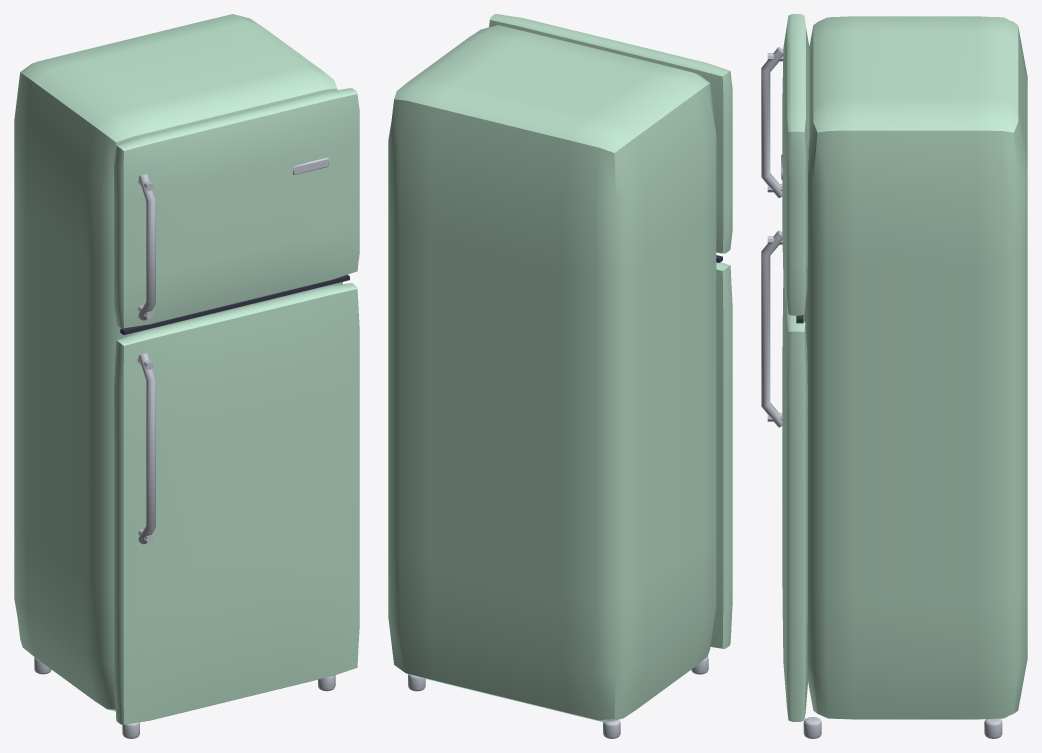
File: fridge.glb
The picture shows the model from 3 angles, left to right: view 1: azimuth 30°, elevation 25°; view 2: azimuth 150°, elevation 25°; view 3: azimuth 270°, elevation 25°; orthographic projection. The views are drawn at different scales.
Parts seen in each view (by area): view 1: fridge, chrome, charcoal; view 2: fridge, chrome; view 3: fridge, chrome.
Part boxes in pixels (box(x1,y1,x2,y2)): fridge: box(14, 14, 359, 724); chrome: box(34, 157, 335, 738); charcoal: box(120, 274, 349, 334); fridge: box(388, 14, 732, 722); chrome: box(408, 657, 708, 738); fridge: box(782, 14, 1027, 721); chrome: box(761, 47, 1002, 738).
Bounding box in the file's own units: 0.8 × 1.9 × 0.7376.
